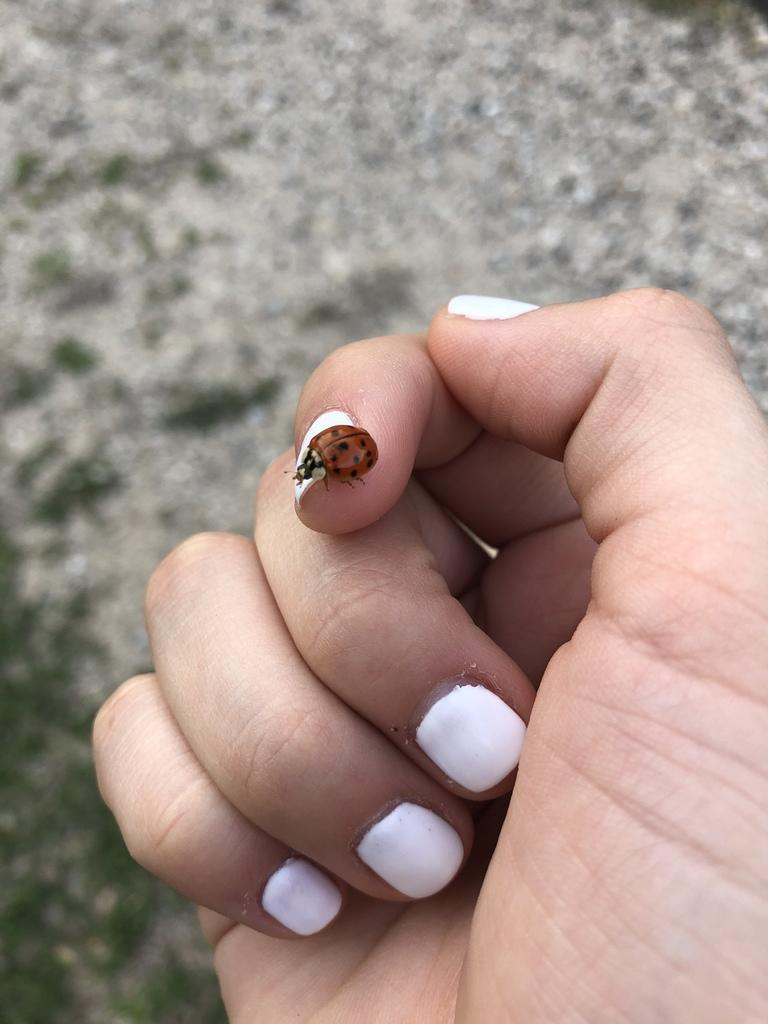ladybug: (289, 419, 389, 496)
